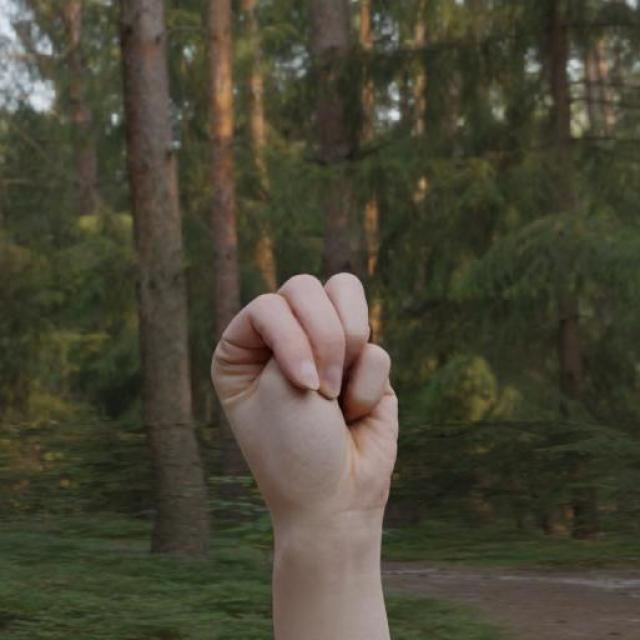M: (210, 269, 400, 531)
